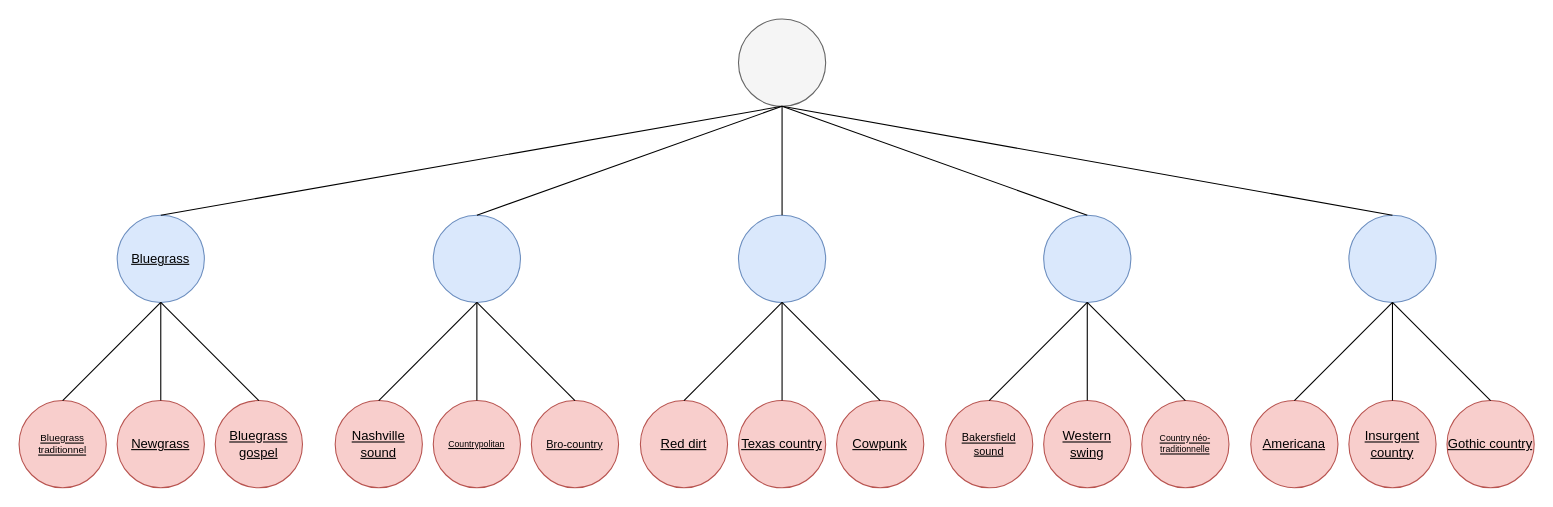
Image size: 1553x507. Some labels were removed from this diagram. The shapes that lost their labels are listed below. From the top down, each one's centre as x and y in pixels, then its label:
At pixel 781 62: "Country".
At pixel 476 258: "Country pop".
At pixel 781 258: "Outlaw country".
At pixel 1087 258: "Honky-tonk".
At pixel 1392 258: "Alt-country".
